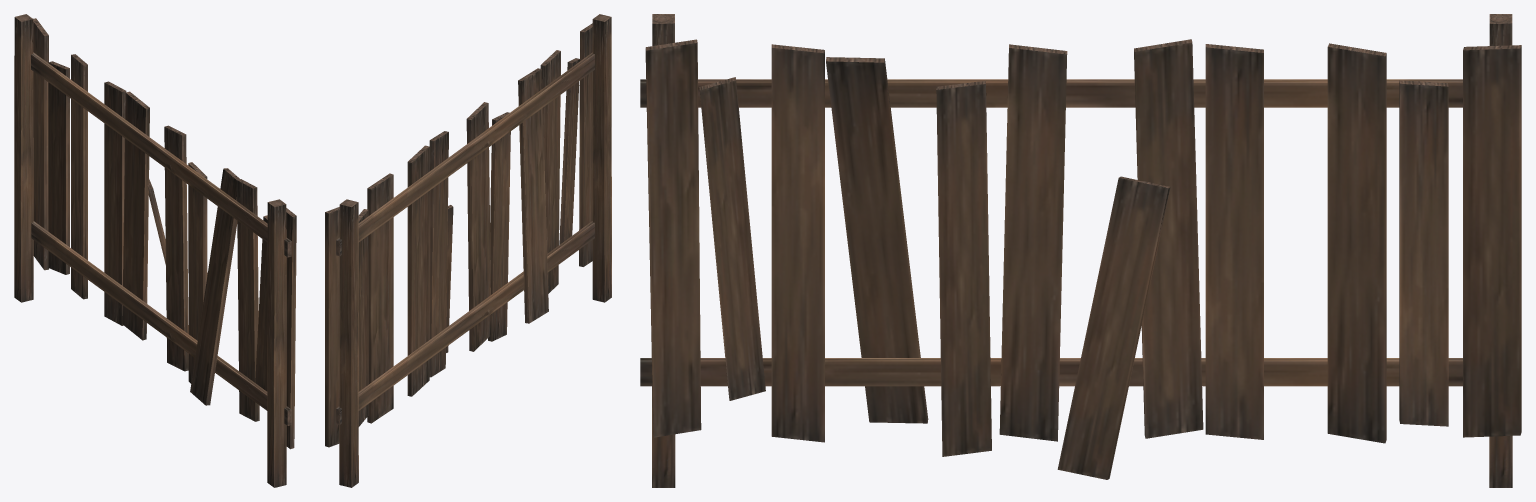
Rendered from Wall_wood_3_LOD1.fbx.
3 views of the same model, side by side, from view 1: azimuth 30°, elevation 25°; view 2: azimuth 150°, elevation 25°; view 3: azimuth 270°, elevation 25° (orthographic). The views are drawn at different scales.
Parts seen in each view (by area): view 1: polySurface228; view 2: polySurface228; view 3: polySurface228.
Boxes of the visible parts, x1=… form: polySurface228: x1=14, y1=14, x2=296, y2=487; polySurface228: x1=325, y1=14, x2=611, y2=487; polySurface228: x1=640, y1=14, x2=1521, y2=487.
Size of the model in its own units: 48.93 by 232 by 400.
Materials: 1 (1 with a texture image).
